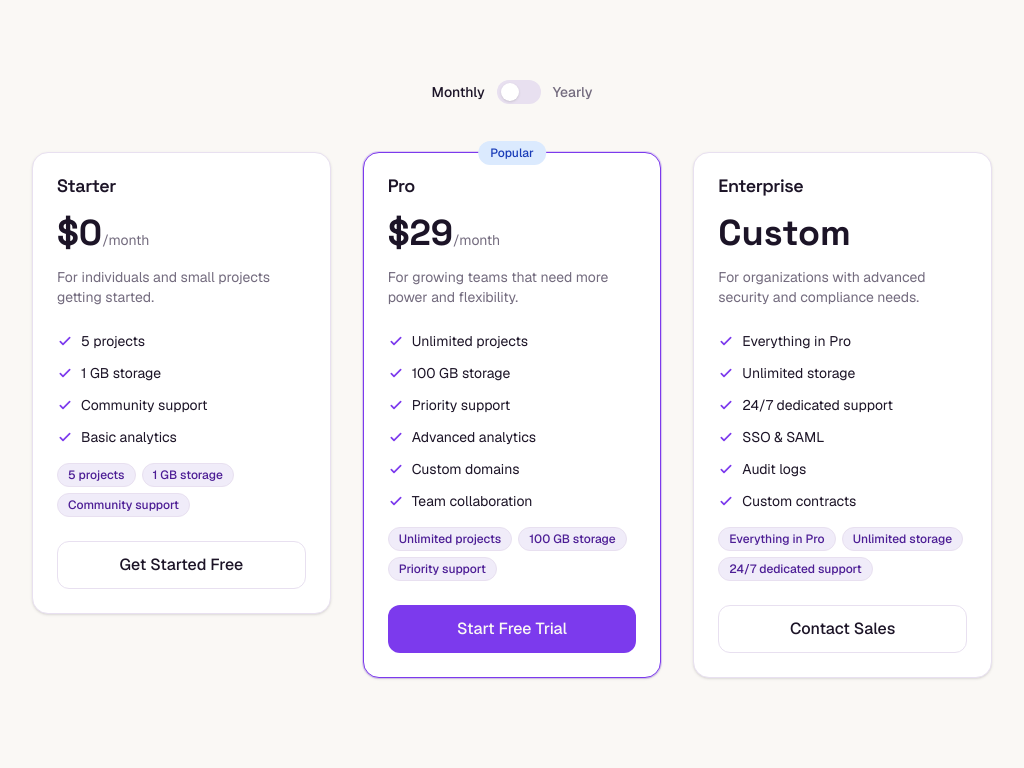
Test: PricingCards › switches to yearly pricing when toggle is clicked
Click the switch: (519, 92) [497,80,541,104]
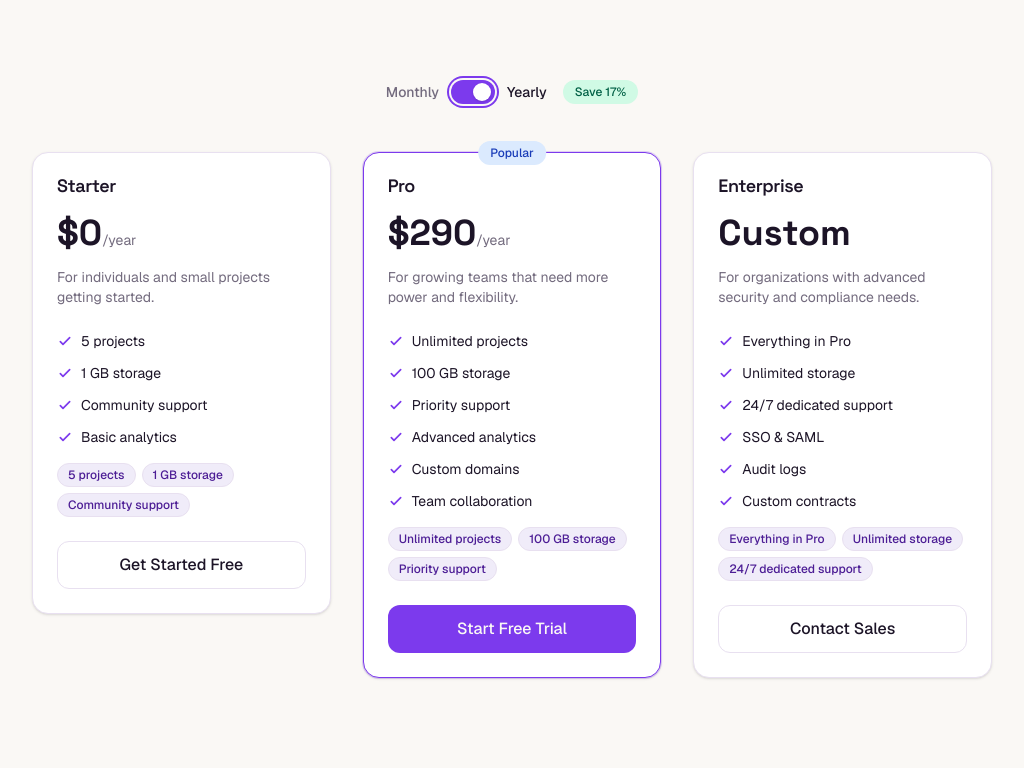
Expected: the text "$290" is shown, [388,210,476,256]
Expected: the text "Save 17%" is shown, [563,80,638,104]
